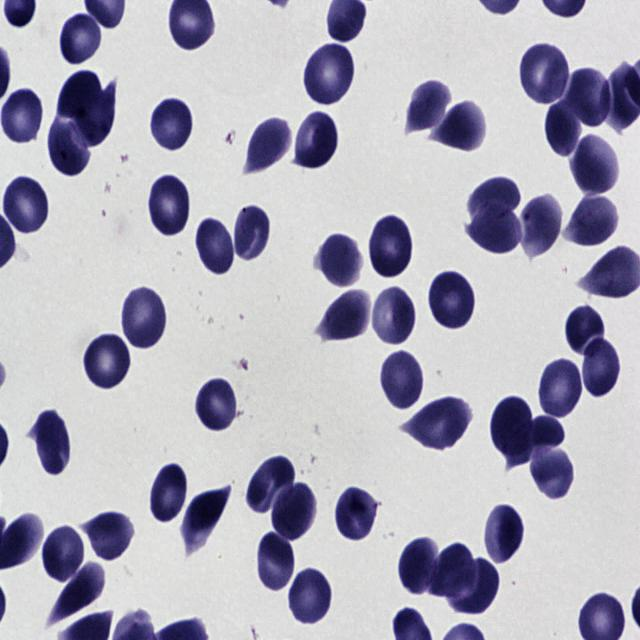red blood cell: (408, 395, 472, 453), (520, 42, 572, 108), (302, 42, 354, 106), (427, 268, 478, 331), (570, 134, 620, 198), (518, 191, 564, 259), (52, 563, 104, 623), (146, 177, 194, 241), (505, 416, 565, 467), (182, 486, 228, 552), (244, 458, 296, 516), (75, 80, 118, 150), (565, 191, 620, 245), (469, 200, 522, 254), (402, 79, 452, 136), (429, 102, 486, 152), (2, 175, 50, 234), (270, 485, 318, 543), (47, 117, 92, 178), (121, 287, 166, 348), (453, 560, 501, 617), (369, 215, 413, 277), (564, 68, 611, 126), (245, 116, 291, 174), (1, 85, 42, 148), (334, 486, 380, 542), (83, 335, 130, 389), (195, 377, 240, 433), (545, 96, 584, 160), (294, 112, 337, 170), (433, 542, 476, 600), (34, 408, 69, 479), (316, 232, 362, 286), (484, 504, 524, 566), (540, 359, 582, 418), (372, 288, 414, 346), (60, 10, 104, 65), (470, 177, 520, 225), (150, 461, 188, 524), (399, 538, 439, 597), (492, 397, 532, 456), (321, 294, 372, 340), (232, 204, 272, 262), (150, 98, 192, 153), (382, 352, 423, 408), (290, 567, 330, 624), (43, 523, 83, 580), (582, 338, 620, 398), (85, 514, 134, 560), (256, 532, 294, 591), (530, 452, 573, 502), (197, 220, 236, 274), (566, 303, 606, 355), (59, 73, 100, 120)
